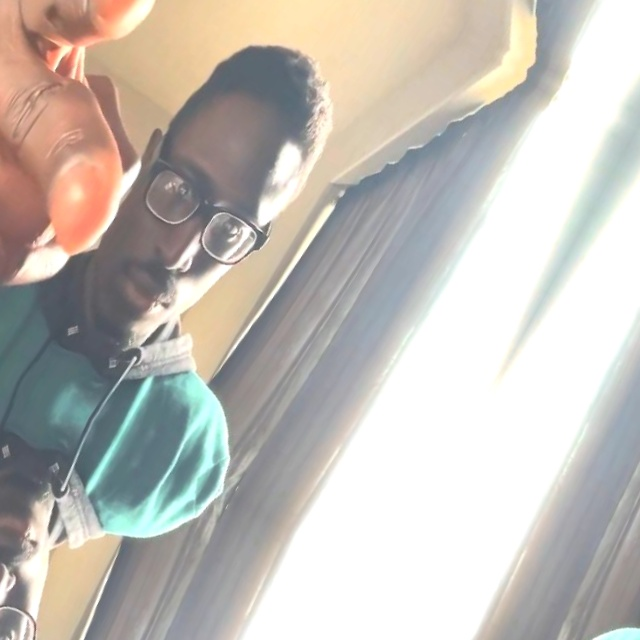Scissors: (0, 0, 42, 248)
